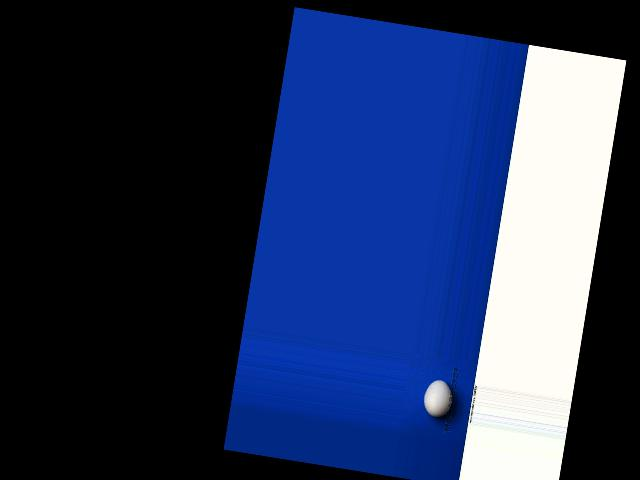egg: (421, 378, 456, 419)
